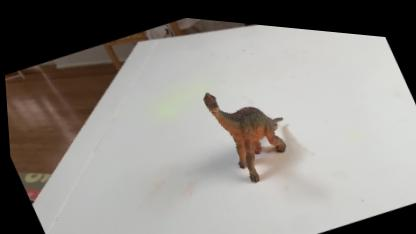brontosaurus: (196, 63, 304, 188)
